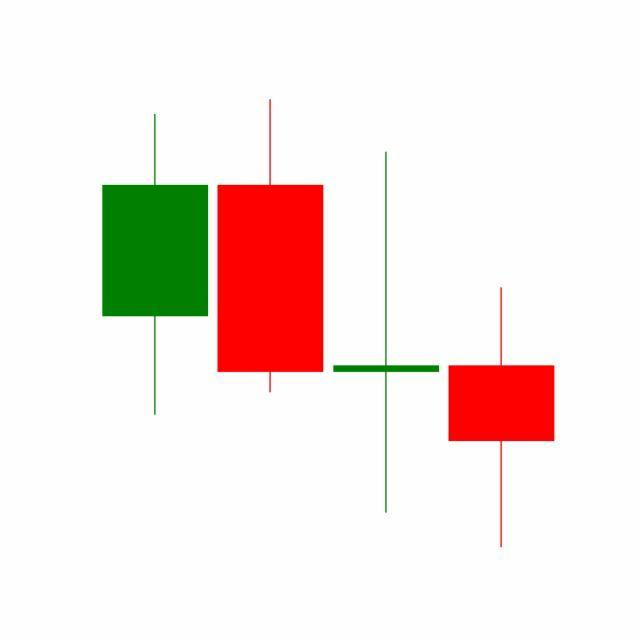Spinning Top: (444, 286, 560, 552)
